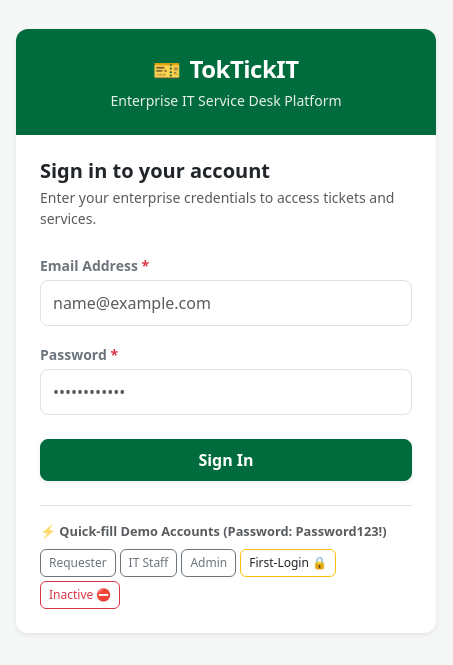
Scenario: Lab 3 LoginScreen Component (UI-01, BR-01, AC-01, AC-02) › displays validation error when email format is invalid
In the field with placeholder "name@example.com": (226, 303) [40,280,412,326], type "invalid-email-format"
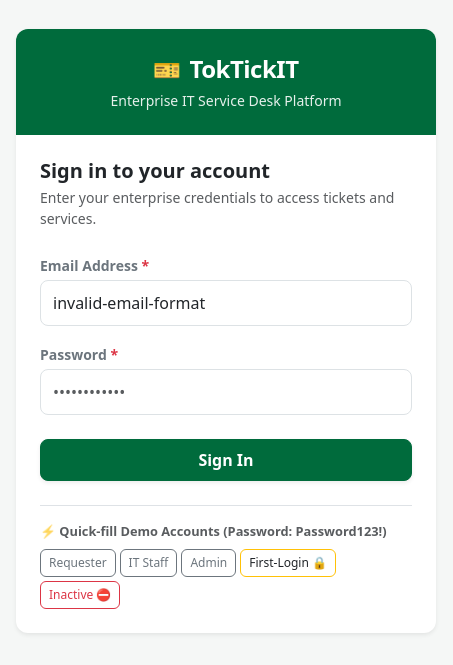
In the password field with placeholder "••••••••••••": (226, 392) [40,369,412,415], type "Password123!"
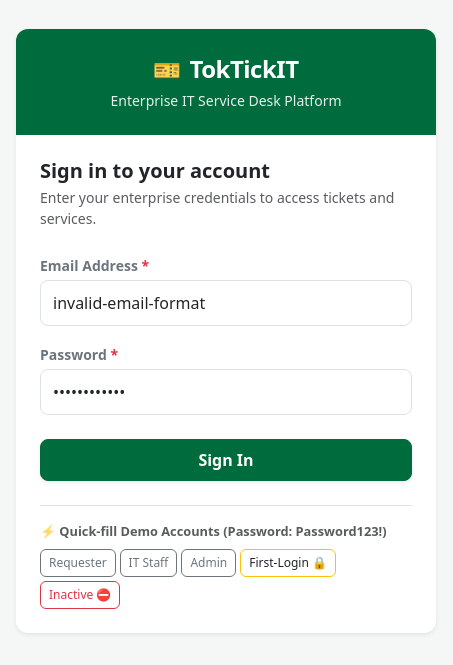
Click the button "Sign In": (226, 460) [40,439,412,481]
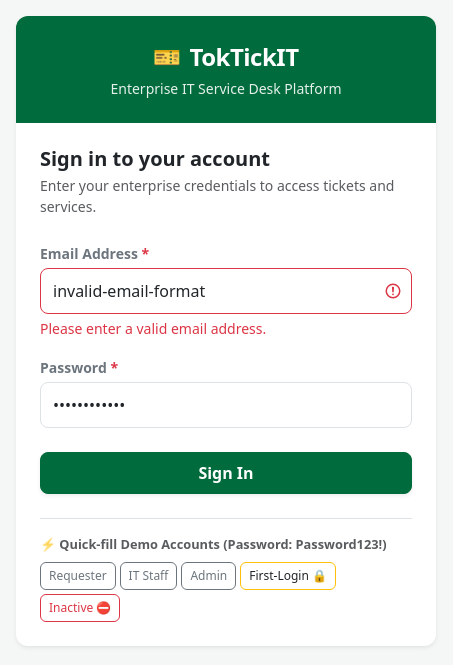
Check: the text "Please enter a valid email address." is shown, box [40,319,266,338]
